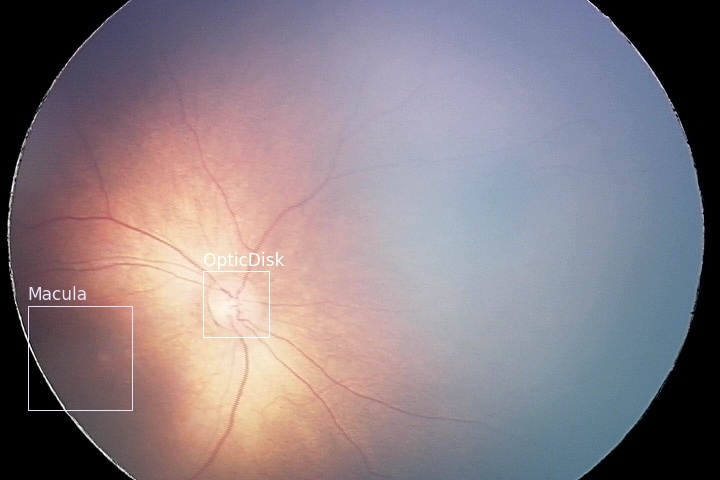Macula: (27, 305, 131, 409)
OpticDisk: (202, 270, 268, 336)
